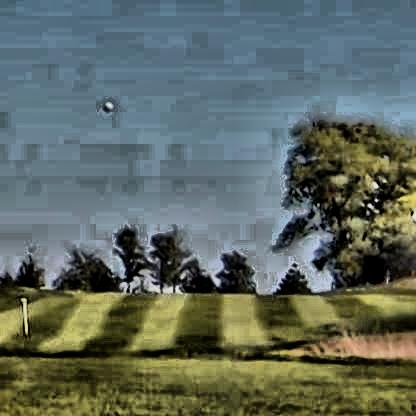golfball: (99, 98, 111, 109)
